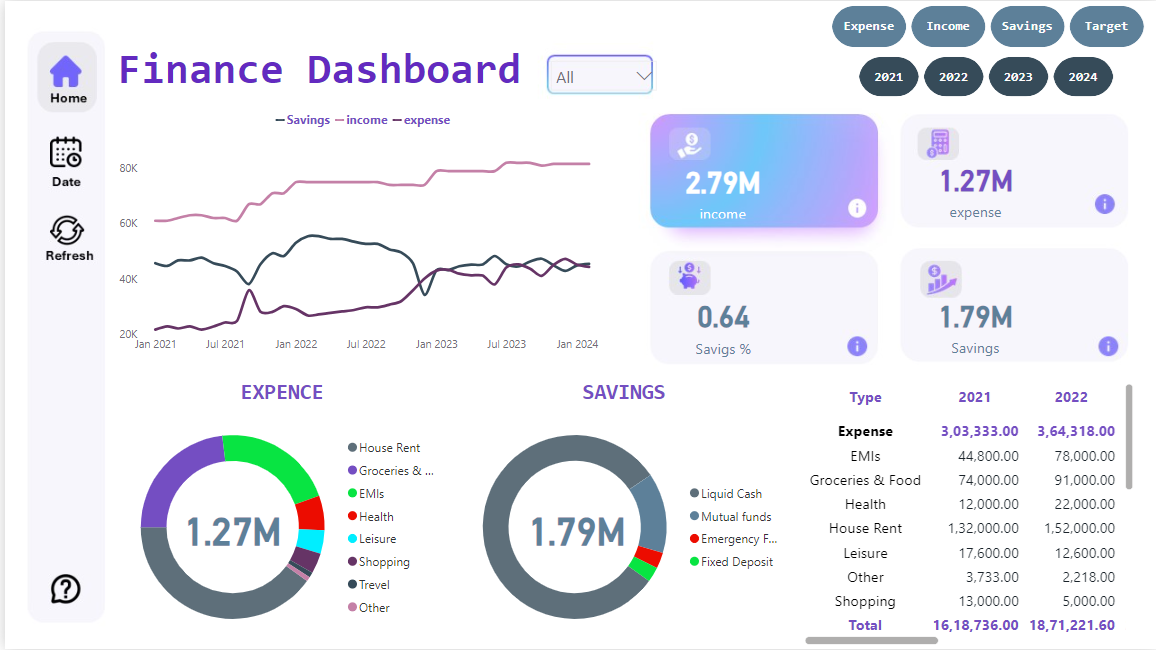

What the dashboard file says about the page in this screenshot:
{"tool":"powerbi","page":{"name":"Page 1","canvas":[1280,720],"ordinal":0},"visuals":[{"type":"card","fields":{"Values":["FinData.income"]},"box":[745,171,104.2,75.1],"z":0},{"type":"card","fields":{"Values":["FinData.Saving"]},"box":[992.4,307.2,172.4,102.9],"z":1000},{"type":"card","fields":{"Values":["FinData.expense"]},"box":[1027.2,165.4,102.9,84.8],"z":2000},{"type":"card","fields":{"Values":["FinData.Savigs %"]},"box":[711.7,308.6,172.4,101.5],"z":3000},{"type":"advancedSlicerVisual","fields":{"Values":["FinData.year"]},"box":[943.8,57,296.1,54.2],"z":4000},{"type":"pieChart","title":"EXPENCE","fields":{"Y":["FinData.expense"],"Category":["FinData.Component"]},"box":[119.5,419.8,375.3,300.2],"z":5000},{"type":"donutChart","title":"SAVINGS","fields":{"Category":["FinData.Component"],"Y":["FinData.Savings"]},"box":[500.4,419.8,375.3,300.2],"z":6000},{"type":"pivotTable","fields":{"Values":["FinData.total_values"],"Rows":["FinData.Type","FinData.Component"],"Columns":["FinData.year"]},"box":[884,419.8,375.3,300.2],"z":7000},{"type":"lineChart","fields":{"Category":["FinData.Date.Variation.Date Hierarchy.Year","FinData.Date.Variation.Date Hierarchy.Month"],"Y":["FinData.Savings","FinData.income","FinData.expense"]},"box":[122.3,111.2,556,287.7],"z":8000},{"type":"card","fields":{"Values":["FinData.Saving"]},"box":[554.6,529.6,159.8,109.8],"z":9000},{"type":"card","fields":{"Values":["FinData.expense"]},"box":[180.7,522.6,144.6,122.3],"z":10000},{"type":"slicer","fields":{"Values":["FinData.year","FinData.Date.Variation.Date Hierarchy.Month"]},"box":[596.3,57,137.6,54.2],"z":11000},{"type":"textbox","box":[119.5,41.7,467,69.5],"z":12000},{"type":"advancedSlicerVisual","fields":{"Values":["FinData.Type"]},"box":[913.2,0,357.2,57],"z":13000}]}

Visuals, with their boxes on the page's 1280x720 design canvas (x1, y1, x2, y2). These are canvas units, not pixel positions in the 1156x650 screenshot, which may show the page scaled, cropped or inside an application window:
card - FinData.income: <box>745,171,849,246</box>
card - FinData.Saving: <box>992,307,1165,410</box>
card - FinData.expense: <box>1027,165,1130,250</box>
card - FinData.Savigs %: <box>712,309,884,410</box>
advancedSlicerVisual - FinData.year: <box>944,57,1240,111</box>
"EXPENCE" pieChart: <box>120,420,495,720</box>
"SAVINGS" donutChart: <box>500,420,876,720</box>
pivotTable - FinData.total_values x FinData.Type: <box>884,420,1259,720</box>
lineChart - FinData.Date.Variation.Date Hierarchy.Year x FinData.Date.Variation.Date Hierarchy.Month: <box>122,111,678,399</box>
card - FinData.Saving: <box>555,530,714,639</box>
card - FinData.expense: <box>181,523,325,645</box>
slicer - FinData.year x FinData.Date.Variation.Date Hierarchy.Month: <box>596,57,734,111</box>
textbox: <box>120,42,586,111</box>
advancedSlicerVisual - FinData.Type: <box>913,0,1270,57</box>
